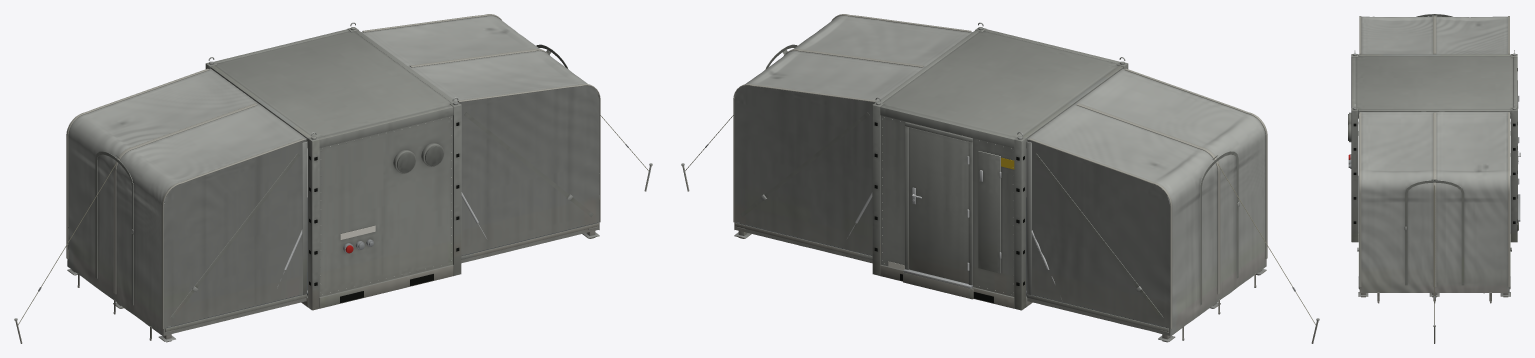
File: ateps-ar.glb
3 views of the same model, side by side, from view 1: azimuth 30°, elevation 25°; view 2: azimuth 150°, elevation 25°; view 3: azimuth 270°, elevation 25° (orthographic). The views are drawn at different scales.
Parts seen in each view (by area): view 1: ATEPS_expansion_L, ATEPS_core, ATEPS_expansion_R, ATEPS_side_wall_L, ATEPS_side_wall_R; view 2: ATEPS_expansion_L, ATEPS_core, ATEPS_expansion_R, ATEPS_side_wall_L, ATEPS_side_wall_R, ATEPS_site_kit; view 3: ATEPS_expansion_R, ATEPS_core, ATEPS_expansion_L, ATEPS_site_kit.
Boxes of the visible parts, <box> form: ATEPS_expansion_L: <box>66,68,307,342</box>; ATEPS_core: <box>205,22,486,310</box>; ATEPS_expansion_R: <box>361,14,600,263</box>; ATEPS_side_wall_L: <box>165,294,306,331</box>; ATEPS_side_wall_R: <box>461,222,598,259</box>; ATEPS_expansion_L: <box>1026,68,1267,342</box>; ATEPS_core: <box>847,22,1128,310</box>; ATEPS_expansion_R: <box>733,14,972,263</box>; ATEPS_side_wall_L: <box>1027,294,1168,331</box>; ATEPS_side_wall_R: <box>735,222,872,259</box>; ATEPS_site_kit: <box>681,49,1319,343</box>; ATEPS_expansion_R: <box>1357,111,1511,303</box>; ATEPS_core: <box>1348,50,1520,242</box>; ATEPS_expansion_L: <box>1358,14,1510,135</box>; ATEPS_site_kit: <box>1431,15,1437,343</box>.
Bounding box in the file's own units: 9.11 × 2.6 × 2.75.
Materials: 19 (8 with a texture image).
